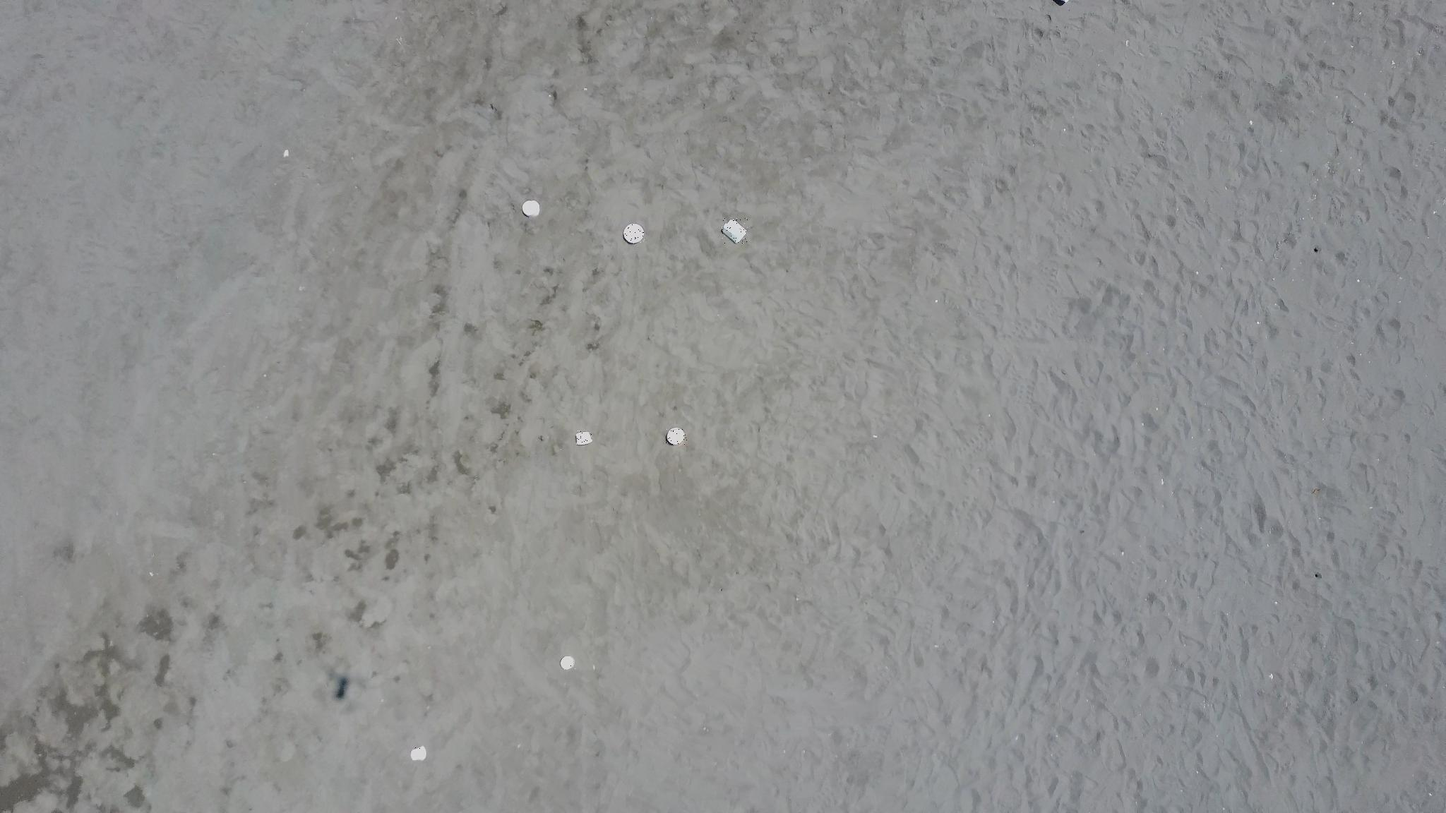Garbage: (722, 219, 746, 242), (622, 223, 643, 243), (666, 427, 684, 445), (522, 200, 539, 216), (576, 430, 592, 445), (410, 745, 425, 760), (561, 655, 574, 668), (1053, 0, 1067, 5), (282, 149, 288, 157)
